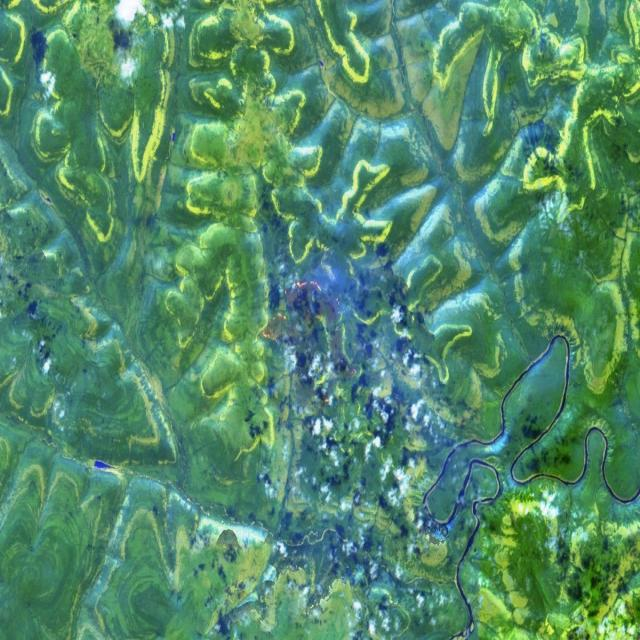fire: (257, 269, 363, 412)
